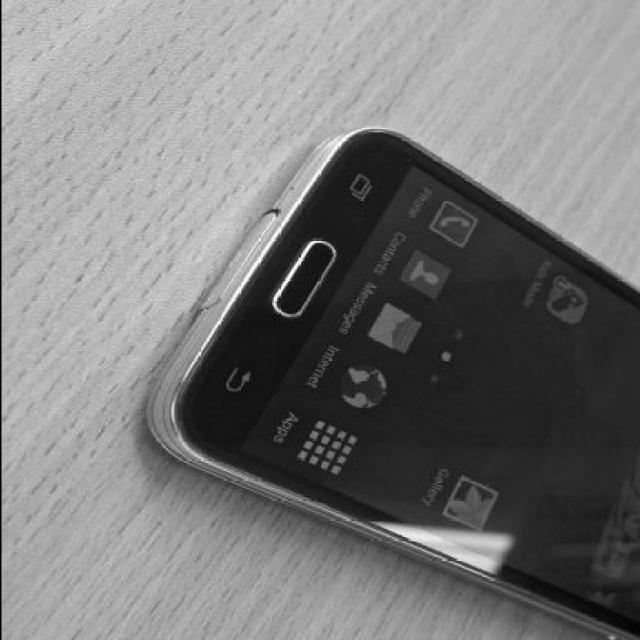fake: (144, 126, 640, 640)
